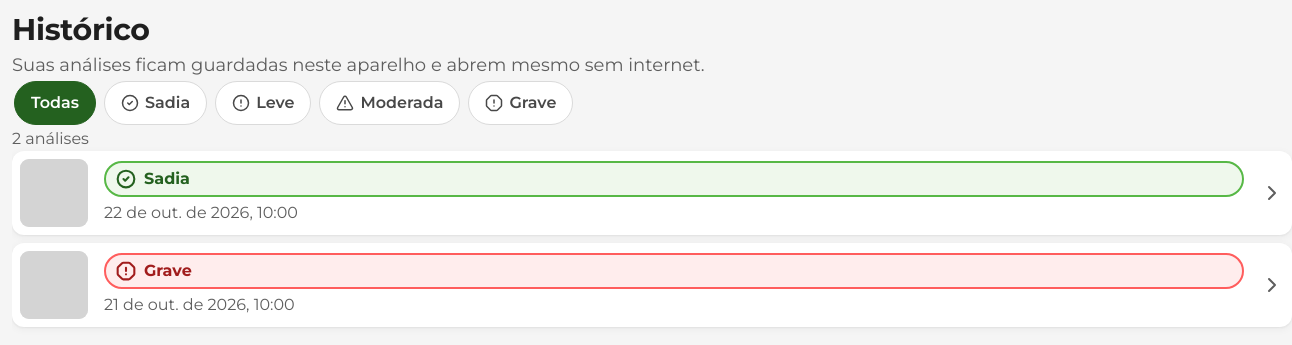
Test case: HistoryPage › lista e filtra por estado
The width and height of the screenshot is (1292, 345).
expect the text "2 análises" is shown: met, box [12, 129, 89, 148]
Click the button "Grave". click: (521, 103)
box: [468, 81, 573, 125]
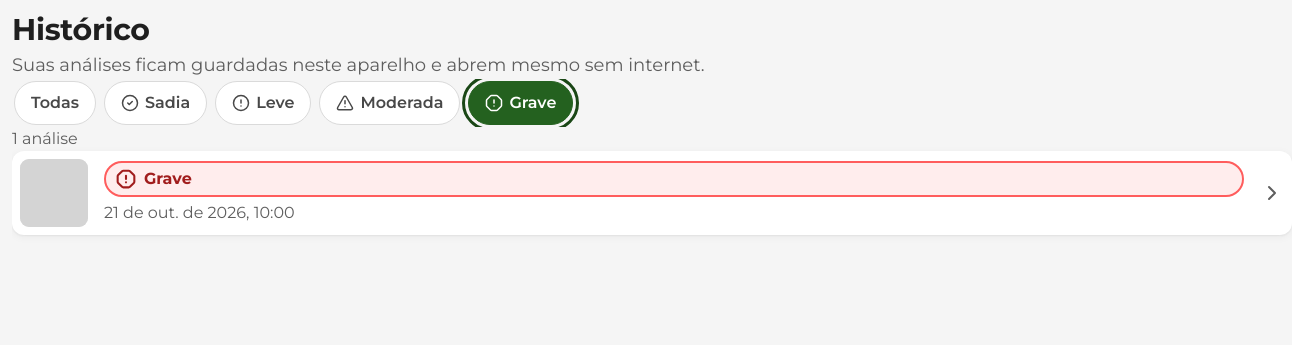
expect the text "1 análise" is shown: met, box [12, 129, 78, 148]
Click the button "Moderada". click: (390, 103)
box: [319, 81, 460, 125]
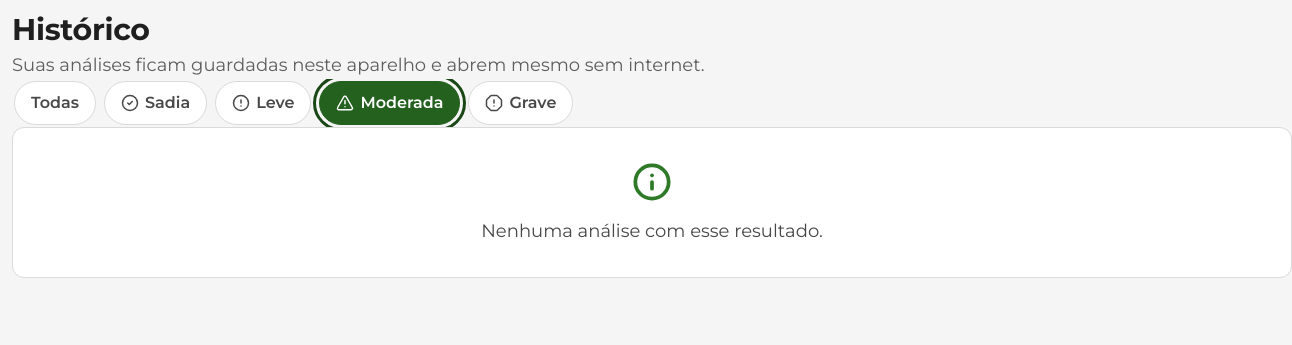
expect the text "Nenhuma análise com esse resultado." is shown: met, box [481, 218, 823, 245]
